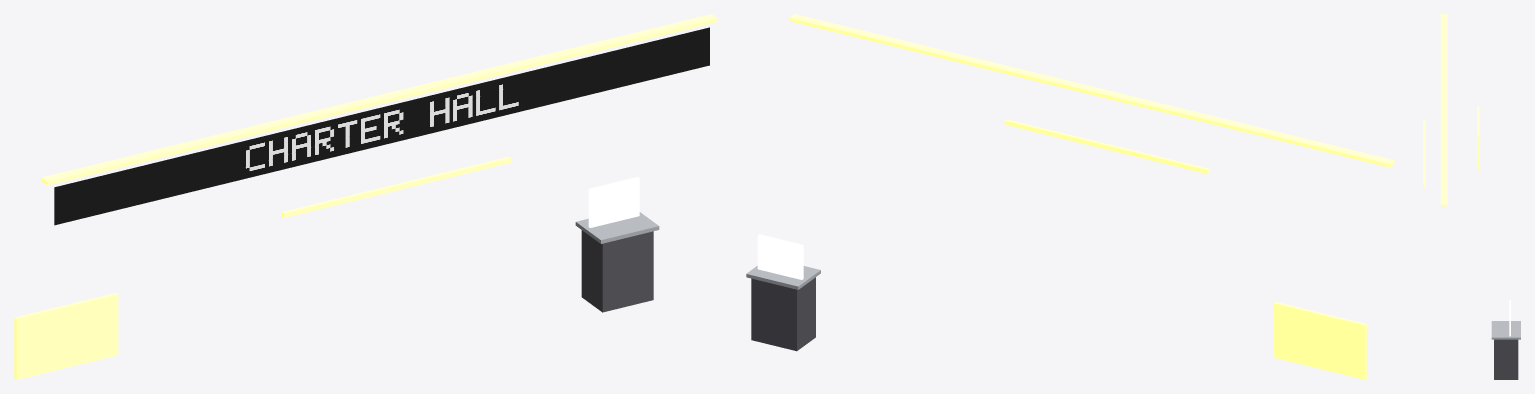
File: room-s17-curable-blockchain-dao-1.glb
The picture shows the model from 3 angles, left to right: view 1: azimuth 30°, elevation 25°; view 2: azimuth 150°, elevation 25°; view 3: azimuth 270°, elevation 25°; orthographic projection. The views are drawn at different scales.
Visible parts, largest first — view 1: Curable.Blockchain DAO Charter Hall room; view 2: Curable.Blockchain DAO Charter Hall room; view 3: Curable.Blockchain DAO Charter Hall room.
Boxes of the visible parts, box(x1,y1,x2,y2) form: Curable.Blockchain DAO Charter Hall room: box(14, 14, 717, 379); Curable.Blockchain DAO Charter Hall room: box(746, 14, 1394, 379); Curable.Blockchain DAO Charter Hall room: box(1423, 14, 1520, 379).
Size of the model in its own units: 9.2 by 4.08 by 2.
5 materials, 1 textured.
